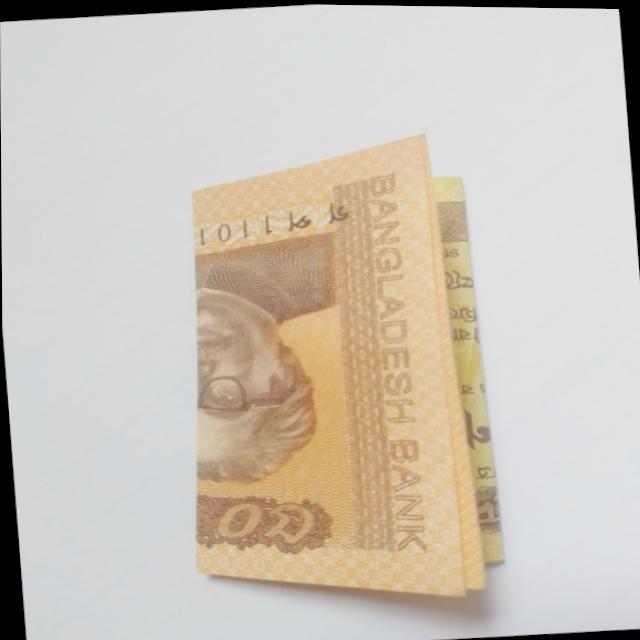Taka: (174, 114, 519, 608)
